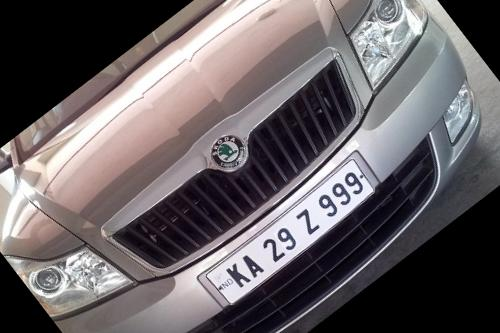plate: (196, 148, 395, 317)
